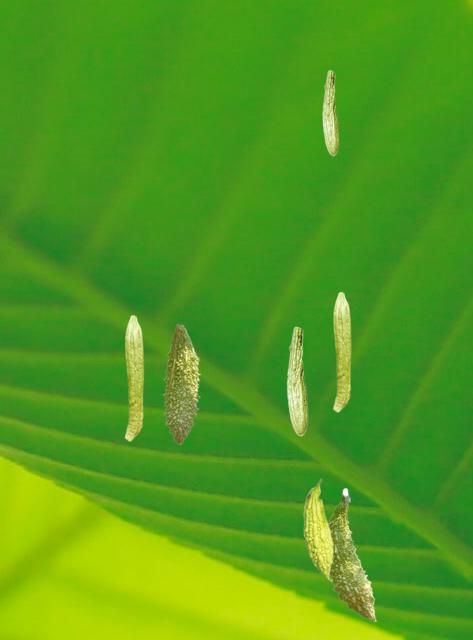ampalaya: (328, 487, 376, 622), (162, 323, 201, 445), (303, 478, 333, 582), (124, 315, 144, 441), (286, 326, 308, 436), (332, 291, 351, 412), (322, 70, 339, 156)
